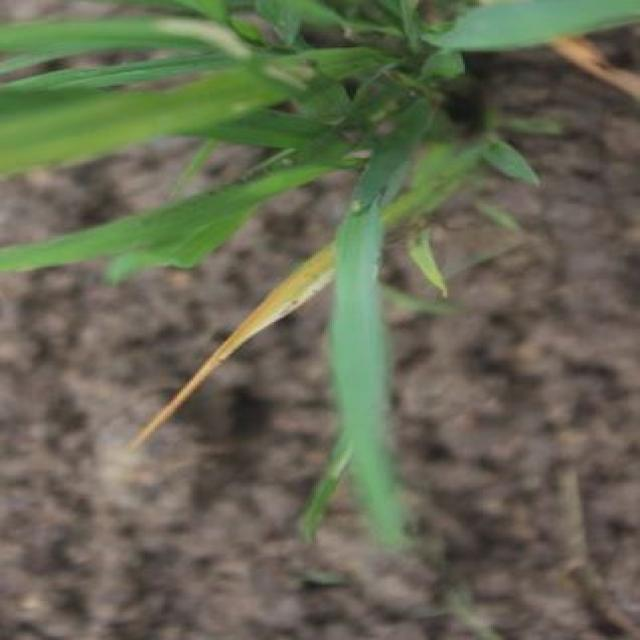Tungro: (119, 233, 369, 446)
